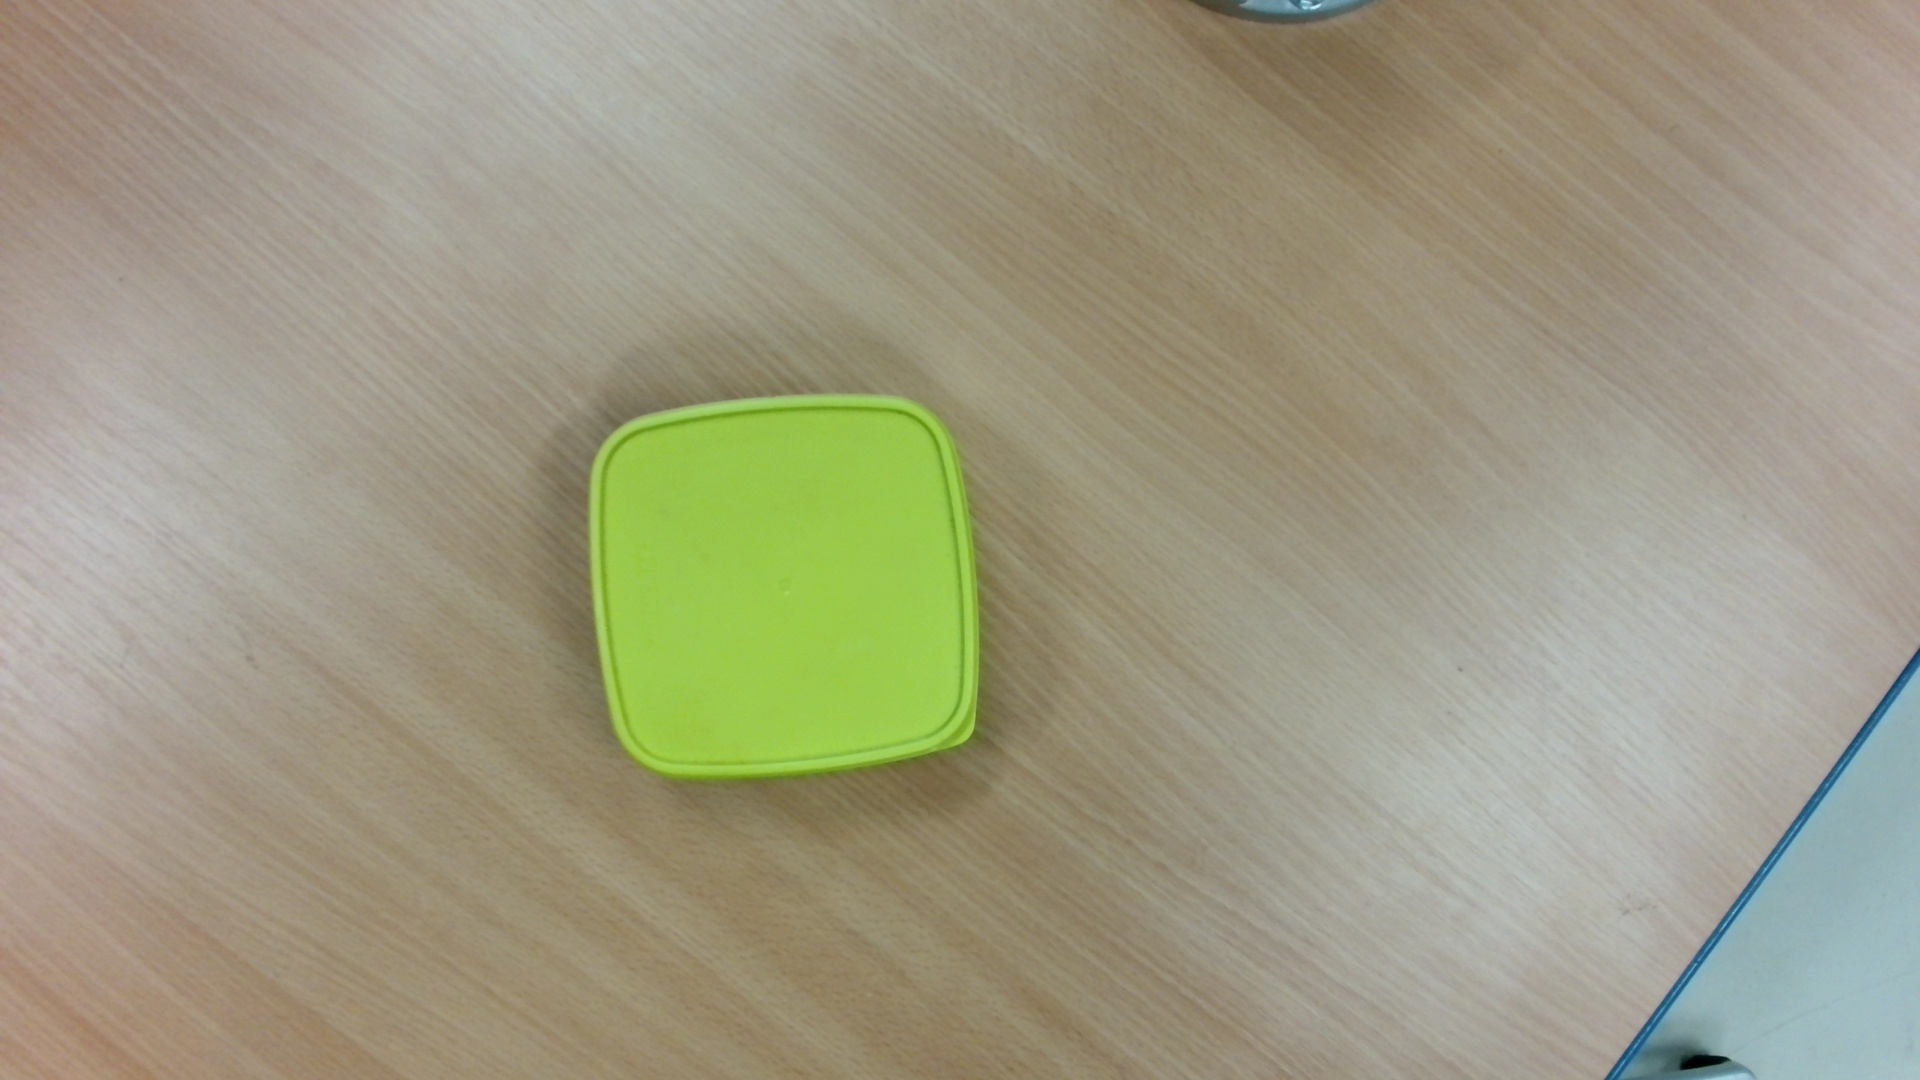Box: (580, 382, 988, 791)
